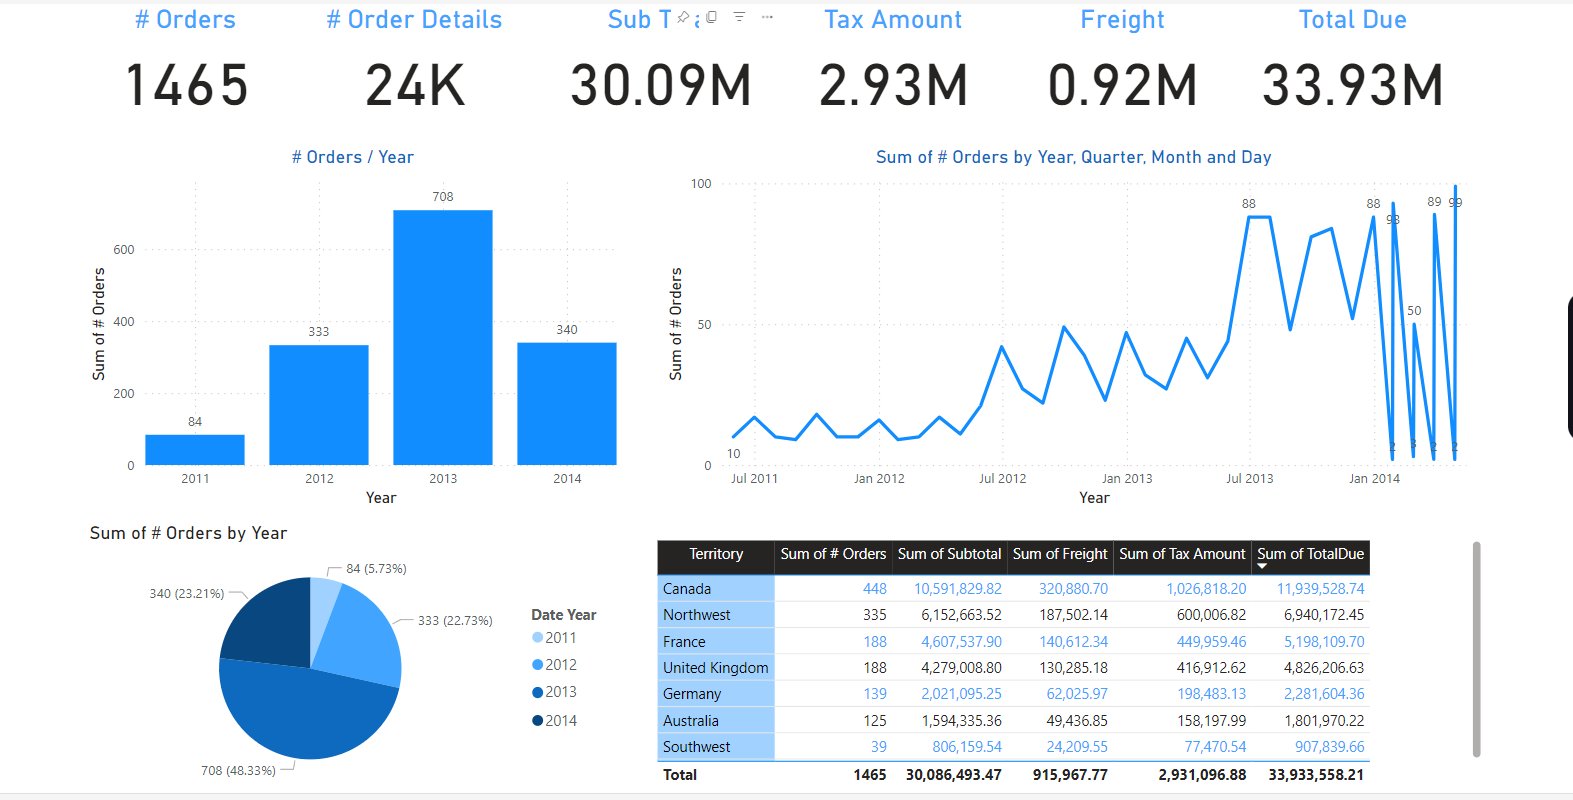

What the dashboard file says about the page in this screenshot:
{"tool":"powerbi","page":{"name":"Page 1","canvas":[1280,720],"ordinal":0},"visuals":[{"type":"card","title":"# Orders","fields":{"Values":["Sum(Sales Orders - ExcelFiles.# Orders)"]},"box":[0,0,185.4,103.4],"z":0},{"type":"card","title":"# Order Details","fields":{"Values":["Sum(Sales Orders - ExcelFiles.# Order Details)"]},"box":[181.6,0,240.1,103.4],"z":1000},{"type":"card","title":"Sub Total","fields":{"Values":["Sum(Sales Orders - ExcelFiles.Subtotal)"]},"box":[417.9,0,217.5,103.4],"z":2000},{"type":"card","title":"Tax Amount","fields":{"Values":["Sum(Sales Orders - ExcelFiles.Tax Amount)"]},"box":[631.6,0,213.9,103.4],"z":3000},{"type":"card","title":"Total Due","fields":{"Values":["Sum(Sales Orders - ExcelFiles.TotalDue)"]},"box":[1050.6,0,215.1,103.4],"z":4000},{"type":"card","title":"Freight","fields":{"Values":["Sum(Sales Orders - ExcelFiles.Freight)"]},"box":[841.7,0,212.7,103.4],"z":5000},{"type":"clusteredColumnChart","title":"# Orders / Year","fields":{"Category":["Sales Orders - ExcelFiles.Date.Variation.Date Hierarchy.Year"],"Y":["Sum(Sales Orders - ExcelFiles.# Orders)"]},"box":[0,128.4,490.8,335.2],"z":6000},{"type":"pieChart","fields":{"Category":["Sales Orders - ExcelFiles.Date.Variation.Date Hierarchy.Year"],"Y":["Sum(Sales Orders - ExcelFiles.# Orders)"]},"box":[0,471.6,490.8,248.4],"z":7000},{"type":"tableEx","fields":{"Values":["Sales Orders - ExcelFiles.Territory","Sum(Sales Orders - ExcelFiles.# Orders)","Sum(Sales Orders - ExcelFiles.Subtotal)","Sum(Sales Orders - ExcelFiles.Freight)","Sum(Sales Orders - ExcelFiles.Tax Amount)","Sum(Sales Orders - ExcelFiles.TotalDue)"]},"box":[517,484.7,763,235.3],"z":8000},{"type":"lineChart","fields":{"Category":["Sales Orders - ExcelFiles.Date.Variation.Date Hierarchy.Year","Sales Orders - ExcelFiles.Date.Variation.Date Hierarchy.Quarter","Sales Orders - ExcelFiles.Date.Variation.Date Hierarchy.Month","Sales Orders - ExcelFiles.Date.Variation.Date Hierarchy.Day"],"Y":["Sum(Sales Orders - ExcelFiles.# Orders)"]},"box":[526.5,128.4,753.5,335.2],"z":9000}]}

Visuals, with their boxes on the page's 1280x720 design canvas (x1, y1, x2, y2). These are canvas units, not pixel positions in the 1573x800 screenshot, which may show the page scaled, cropped or inside an application window:
"# Orders" card: Rect(0, 0, 185, 103)
"# Order Details" card: Rect(182, 0, 422, 103)
"Sub Total" card: Rect(418, 0, 635, 103)
"Tax Amount" card: Rect(632, 0, 846, 103)
"Total Due" card: Rect(1051, 0, 1266, 103)
"Freight" card: Rect(842, 0, 1054, 103)
"# Orders / Year" clusteredColumnChart: Rect(0, 128, 491, 464)
pieChart - Sales Orders - ExcelFiles.Date.Variation.Date Hierarchy.Year x Sum(Sales Orders - ExcelFiles.# Orders): Rect(0, 472, 491, 720)
tableEx - Sales Orders - ExcelFiles.Territory x Sum(Sales Orders - ExcelFiles.# Orders): Rect(517, 485, 1280, 720)
lineChart - Sales Orders - ExcelFiles.Date.Variation.Date Hierarchy.Year x Sales Orders - ExcelFiles.Date.Variation.Date Hierarchy.Quarter: Rect(526, 128, 1280, 464)
